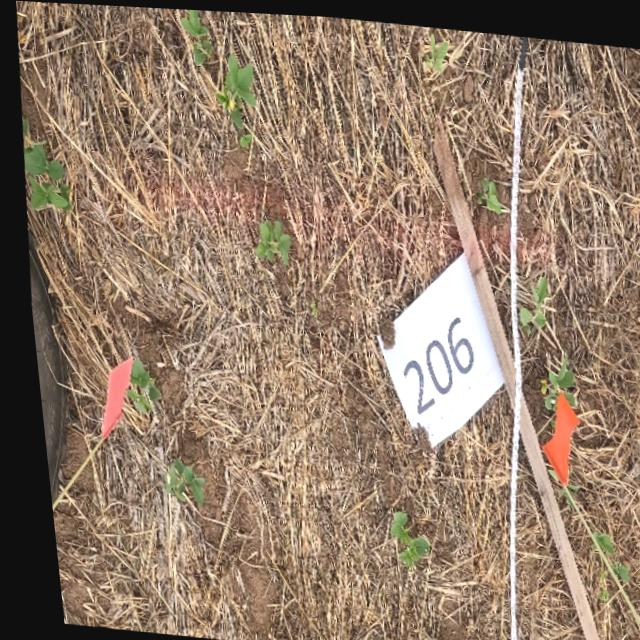soy_plant: (21, 142, 66, 209), (214, 53, 254, 126), (379, 508, 419, 563), (118, 358, 153, 413), (534, 350, 567, 404), (155, 457, 194, 502), (181, 8, 211, 63), (513, 272, 542, 328), (251, 217, 286, 262), (424, 30, 449, 67), (473, 173, 498, 209), (582, 525, 604, 549), (602, 557, 618, 577), (237, 131, 249, 144), (20, 119, 27, 141)
